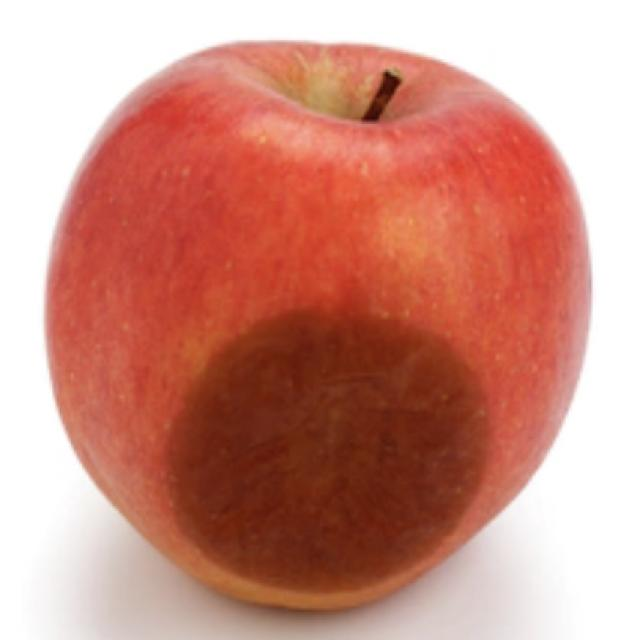rotten_apple: (43, 42, 595, 619)
